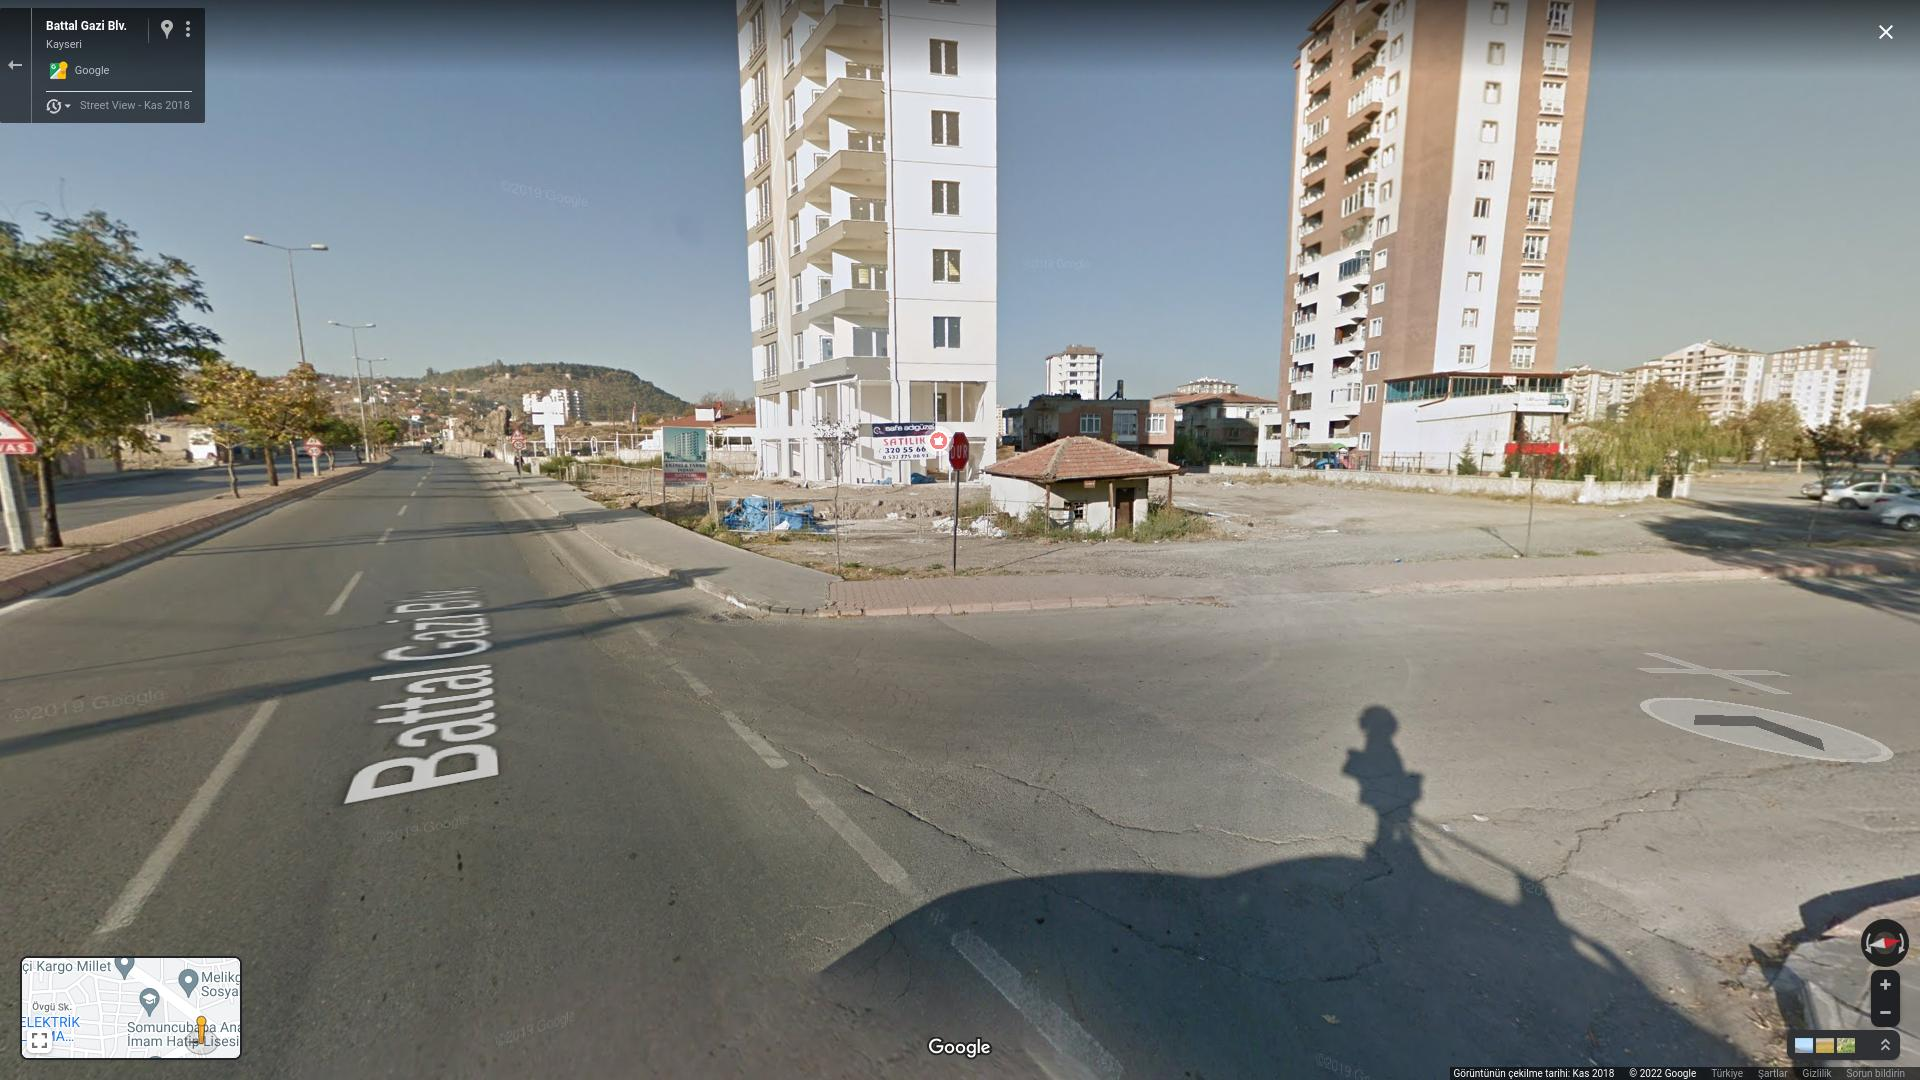stop: (947, 430, 969, 471)
